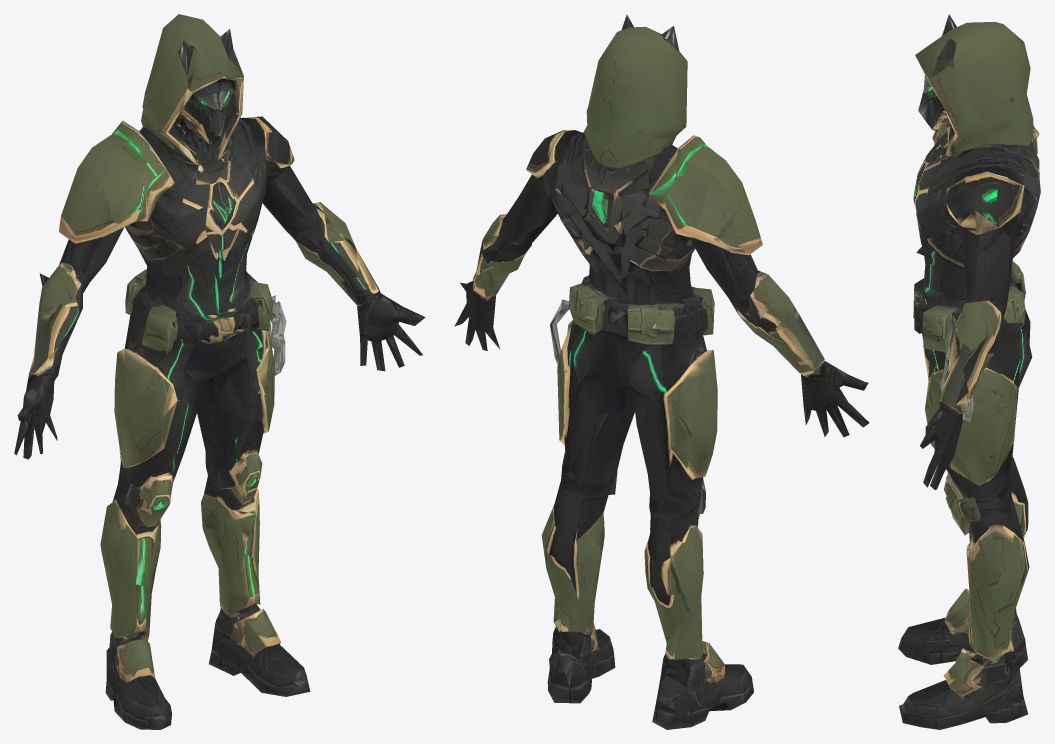
File: neon_wolf_lod1.glb
3 views of the same model, side by side, from view 1: azimuth 30°, elevation 25°; view 2: azimuth 150°, elevation 25°; view 3: azimuth 270°, elevation 25° (orthographic).
Parts seen in each view (by area): view 1: Mesh_0; view 2: Mesh_0; view 3: Mesh_0.
Part boxes in pixels (box(x1,y1,x2,y2)): Mesh_0: box(14, 14, 425, 729); Mesh_0: box(454, 14, 869, 729); Mesh_0: box(898, 14, 1040, 729).
Bounding box in the file's own units: 1.23 × 1.9 × 0.37.
Materials: 1 (1 with a texture image).
